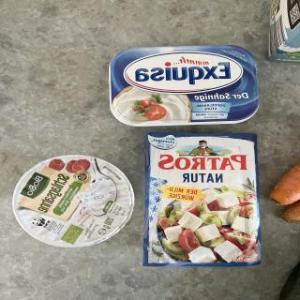carrot: (266, 161, 300, 213)
